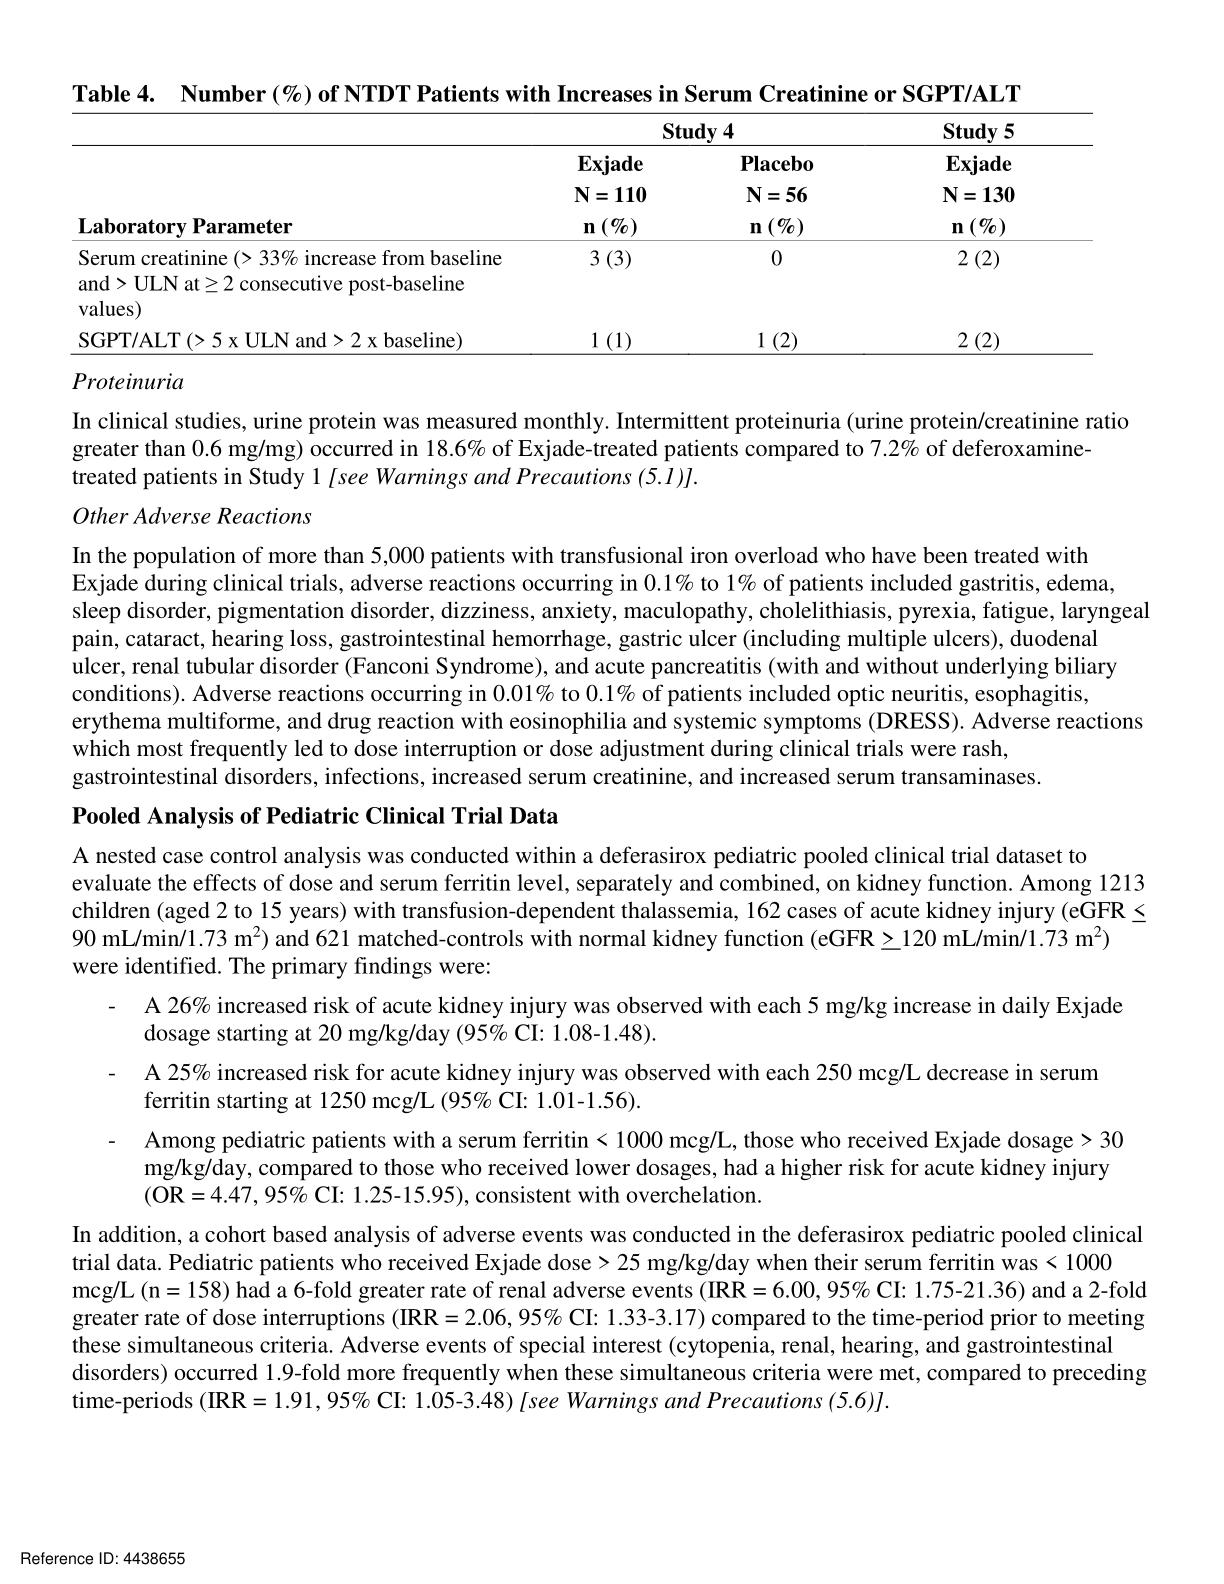partial_lined_merged_cells: (68, 111, 1094, 357)
